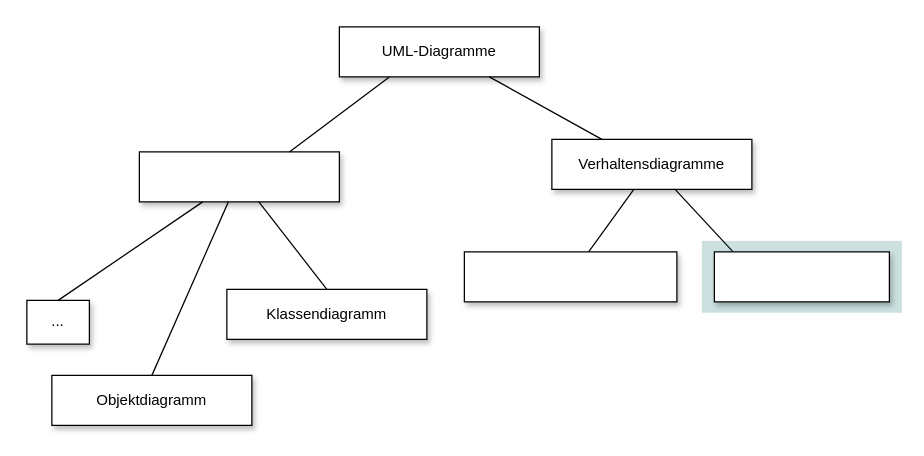
Image size: 924x456. Some labels were removed from this diagram. Each missing label, with the centre of its shape:
Aktivitätsdiagramm: the point at 802,278
Anwendungsfalldiagramm: the point at 571,278
Strukturdiagramme: the point at 240,178
